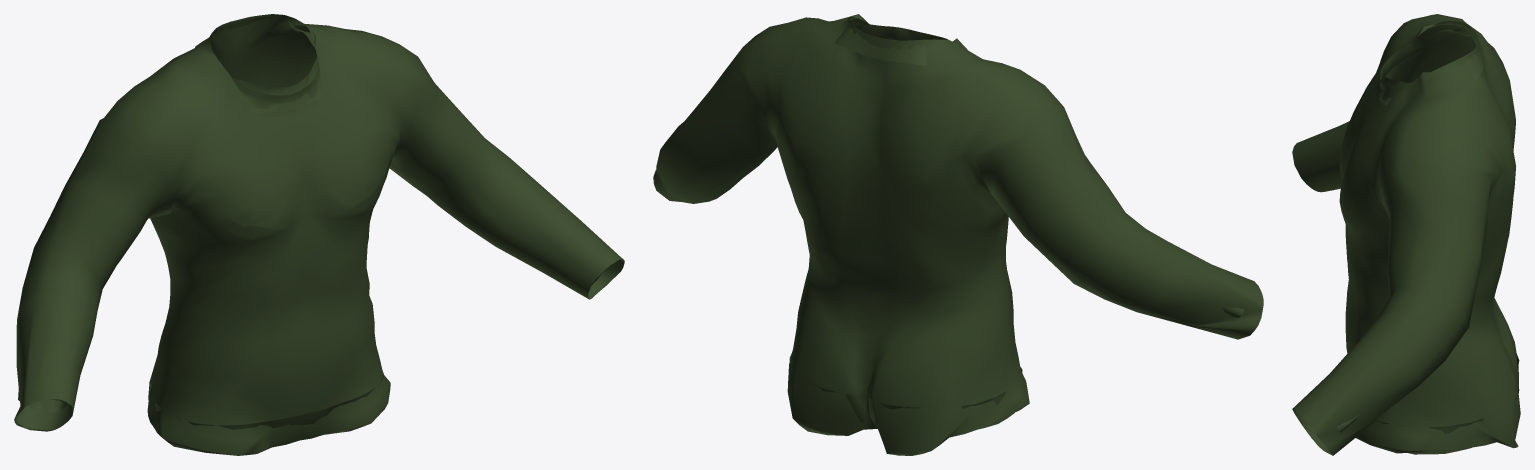
The model's file is bomber.glb.
The picture shows the model from 3 angles, left to right: view 1: azimuth 30°, elevation 25°; view 2: azimuth 150°, elevation 25°; view 3: azimuth 270°, elevation 25°; orthographic projection. The views are drawn at different scales.
Visible parts, largest first — view 1: bomber; view 2: bomber; view 3: bomber.
Boxes of the visible parts, box(x1,y1,x2,y2) form: bomber: box(14, 14, 624, 455); bomber: box(653, 14, 1263, 455); bomber: box(1292, 14, 1520, 455).
Size of the model in its own units: 1.09 by 0.685 by 0.366.
